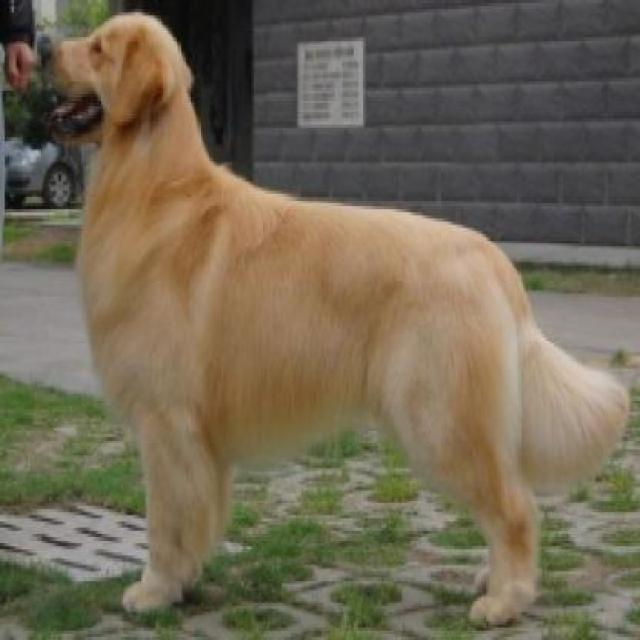Dog: (37, 14, 631, 638)
